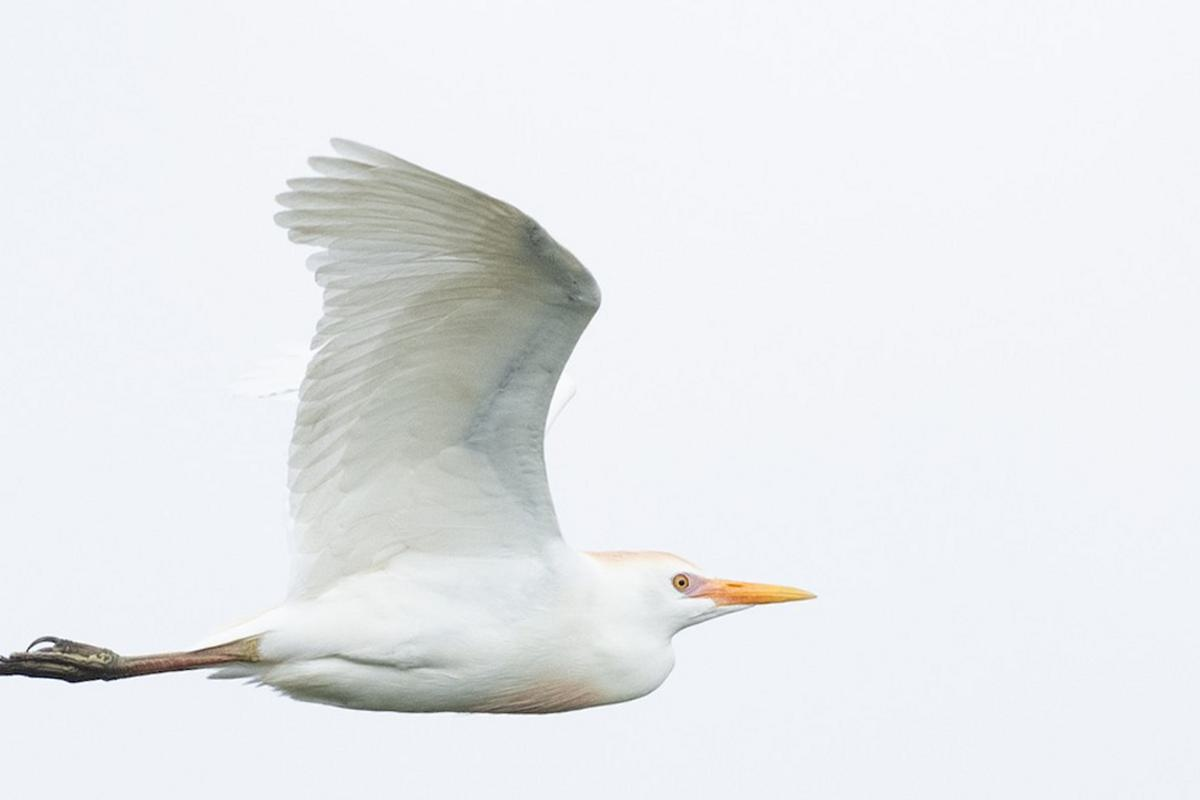egret: (19, 112, 869, 800)
